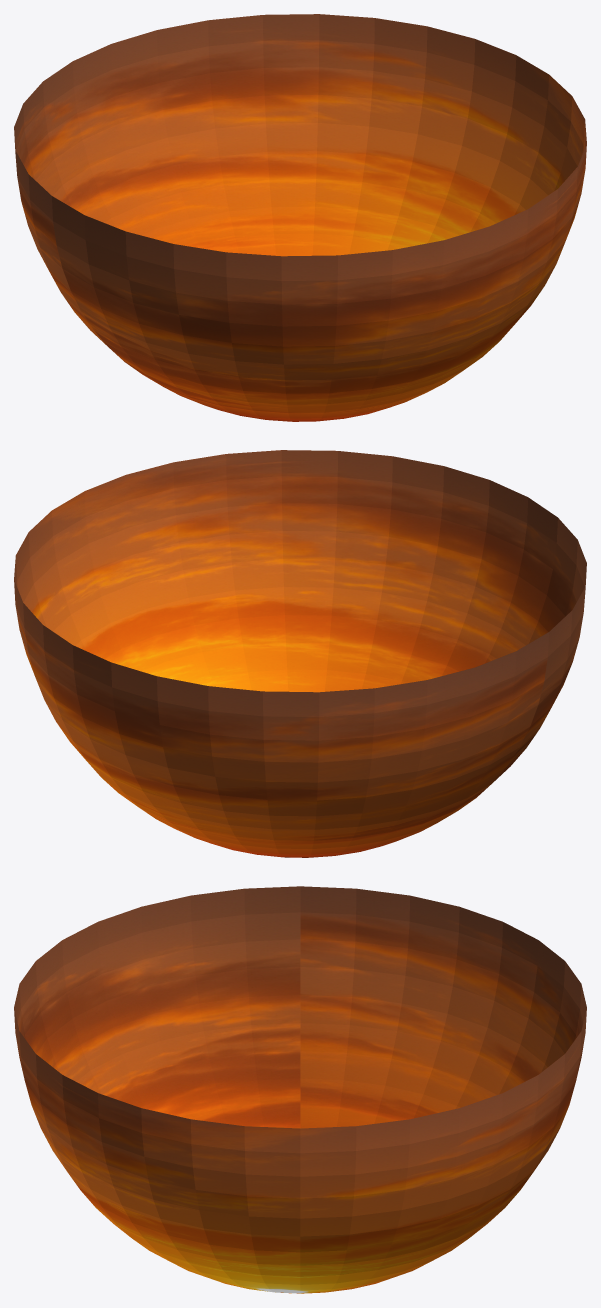
Rendered from Dome2.fbx.
The picture shows the model from 3 angles, top to bottom: view 1: azimuth 30°, elevation 25°; view 2: azimuth 150°, elevation 25°; view 3: azimuth 270°, elevation 25°; orthographic projection.
Visible parts, largest first — view 1: skydome_hemisphere; view 2: skydome_hemisphere; view 3: skydome_hemisphere.
Boxes of the visible parts, x1,y1,x2,y2 form: skydome_hemisphere: [14, 14, 586, 421]; skydome_hemisphere: [14, 450, 586, 857]; skydome_hemisphere: [14, 886, 586, 1293].
Size of the model in its own units: 20000 by 10000 by 20000.
2 materials, 2 textured.
